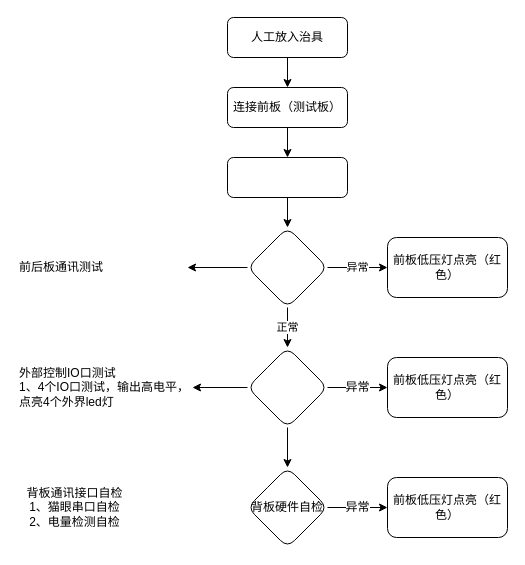
Image size: 525x565. Some labels were removed from this diagram. The box of each missing label's shape, as (x1, y1, x2, y2) in pixels:
前后板通讯: (246, 226, 328, 308)
按压设置按键，前板发送测试指令: (226, 156, 348, 198)
控制IO测试: (246, 346, 328, 428)
